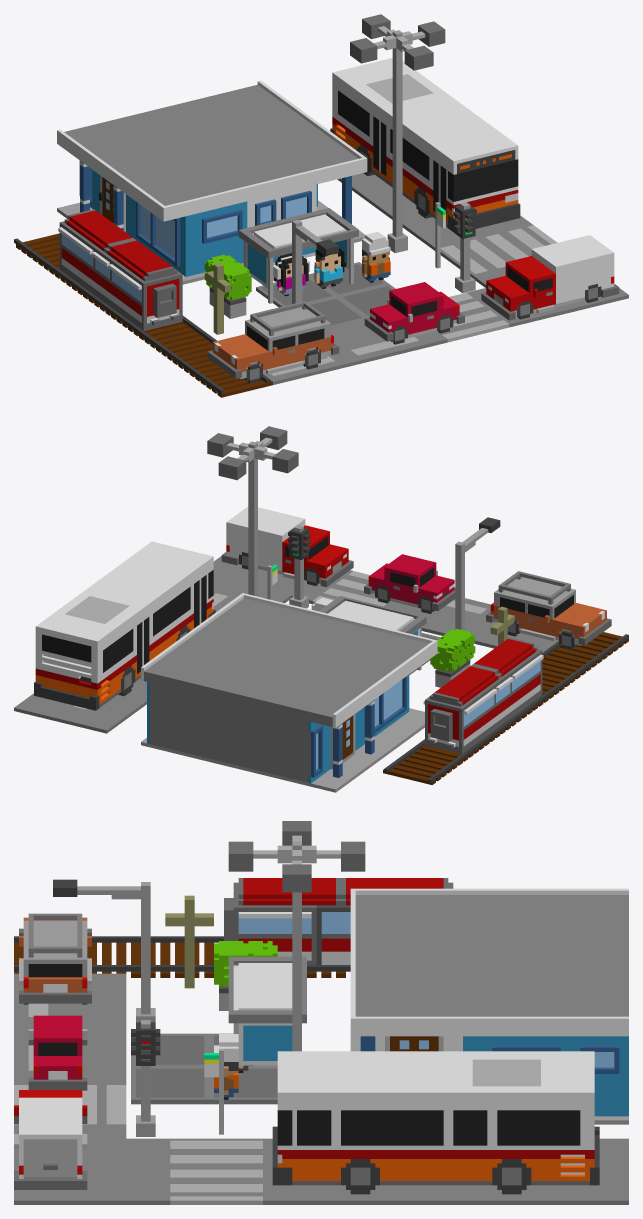
File: movilidad.obj
The picture shows the model from 3 angles, top to bottom: view 1: azimuth 30°, elevation 25°; view 2: azimuth 150°, elevation 25°; view 3: azimuth 270°, elevation 25°; orthographic projection. The views are drawn at different scales.
Parts seen in each view (by area): view 1: movilidad; view 2: movilidad; view 3: movilidad.
Part boxes in pixels (bbox=[...]): movilidad: bbox=[14, 14, 628, 397]; movilidad: bbox=[14, 426, 628, 792]; movilidad: bbox=[14, 821, 628, 1204].
Size of the model in its own units: 126 by 65 by 126.
Materials: 1 (1 with a texture image).
